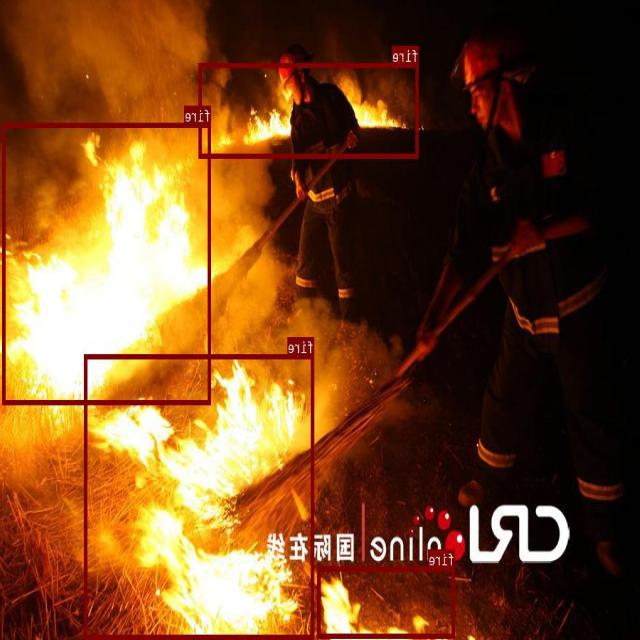fire: (86, 354, 314, 638), (3, 122, 211, 404), (200, 62, 420, 158), (318, 565, 456, 637)
